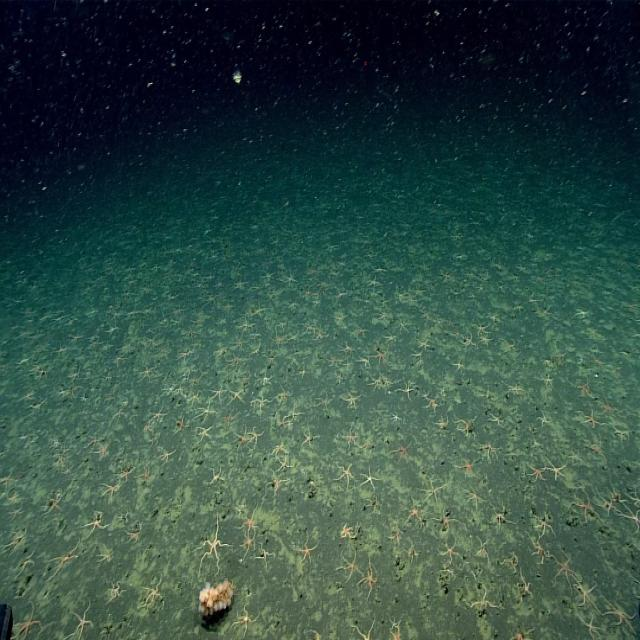brittle-stars: (188, 508, 234, 578), (44, 531, 87, 585), (463, 567, 511, 607), (544, 551, 584, 599), (223, 594, 264, 640), (62, 591, 100, 640), (10, 592, 47, 640), (136, 566, 169, 619), (606, 582, 640, 632), (419, 464, 457, 507), (504, 603, 548, 640), (564, 487, 602, 529), (354, 556, 383, 606), (333, 545, 364, 591), (383, 435, 416, 478), (288, 530, 323, 570), (234, 498, 267, 540), (438, 528, 475, 565), (261, 458, 299, 494), (483, 498, 517, 537), (571, 578, 606, 615), (77, 502, 111, 540), (435, 495, 470, 530), (1, 517, 35, 553), (349, 602, 381, 640), (577, 399, 614, 431), (124, 506, 154, 545), (354, 457, 384, 495), (10, 549, 42, 584), (40, 483, 67, 524), (189, 419, 218, 454), (331, 456, 356, 496), (542, 454, 572, 487), (454, 402, 483, 436), (406, 488, 431, 527), (236, 527, 262, 564), (578, 608, 608, 640), (581, 432, 610, 465), (330, 517, 364, 545), (474, 526, 501, 561), (153, 441, 179, 476), (201, 463, 226, 499), (456, 448, 486, 478), (571, 374, 601, 404), (534, 500, 562, 532), (254, 540, 280, 574), (104, 570, 128, 605), (191, 400, 221, 428), (96, 477, 127, 504), (388, 510, 412, 544), (269, 385, 298, 412), (592, 395, 623, 420), (337, 423, 361, 455), (138, 353, 164, 382), (296, 424, 322, 453), (532, 527, 558, 556), (339, 386, 364, 416), (134, 458, 157, 490), (623, 502, 640, 545), (424, 383, 451, 410), (310, 388, 336, 416), (393, 311, 418, 340), (524, 460, 548, 490), (233, 425, 255, 457), (433, 402, 457, 431), (266, 327, 290, 356), (246, 419, 267, 452), (515, 570, 535, 604), (620, 474, 640, 508), (395, 376, 421, 402), (461, 486, 487, 512), (498, 550, 525, 575), (80, 428, 104, 456), (350, 345, 374, 373), (355, 431, 377, 461), (248, 393, 276, 416), (476, 442, 504, 465), (247, 297, 270, 325), (328, 302, 348, 334), (466, 316, 495, 338), (601, 490, 619, 525), (355, 312, 379, 338), (2, 460, 24, 488), (52, 330, 74, 358), (323, 347, 344, 376), (306, 608, 325, 640), (29, 388, 54, 412), (500, 333, 525, 357), (148, 398, 175, 420), (175, 403, 197, 430), (456, 326, 478, 353), (90, 444, 114, 468), (49, 451, 72, 476), (486, 407, 511, 430), (224, 388, 250, 409), (272, 429, 292, 456), (118, 456, 137, 484), (177, 341, 200, 364), (114, 344, 136, 368), (533, 405, 554, 430), (218, 409, 238, 435), (278, 443, 298, 469), (236, 316, 256, 342), (283, 401, 305, 424), (365, 493, 386, 517), (385, 406, 407, 428), (449, 352, 470, 375), (505, 378, 526, 401), (361, 274, 385, 294), (566, 446, 585, 471), (256, 366, 274, 392), (380, 323, 400, 346), (39, 354, 58, 378), (367, 367, 384, 393), (411, 331, 432, 352), (93, 544, 115, 564), (70, 321, 92, 341), (382, 611, 402, 633), (372, 343, 392, 365), (538, 368, 558, 390), (226, 348, 244, 372), (13, 493, 31, 516), (477, 329, 495, 352), (8, 480, 28, 500), (208, 385, 228, 405), (70, 356, 88, 378), (330, 368, 349, 388), (301, 318, 320, 337), (144, 414, 164, 432), (274, 414, 292, 434), (70, 373, 85, 397), (388, 622, 408, 640), (0, 440, 12, 468), (381, 366, 395, 390), (614, 424, 628, 448), (188, 388, 204, 409), (190, 365, 212, 380), (528, 433, 546, 451), (151, 423, 165, 446), (339, 340, 358, 356), (312, 328, 326, 349), (58, 377, 73, 396), (238, 369, 252, 389), (377, 304, 392, 322), (178, 372, 190, 392), (48, 438, 61, 455)
